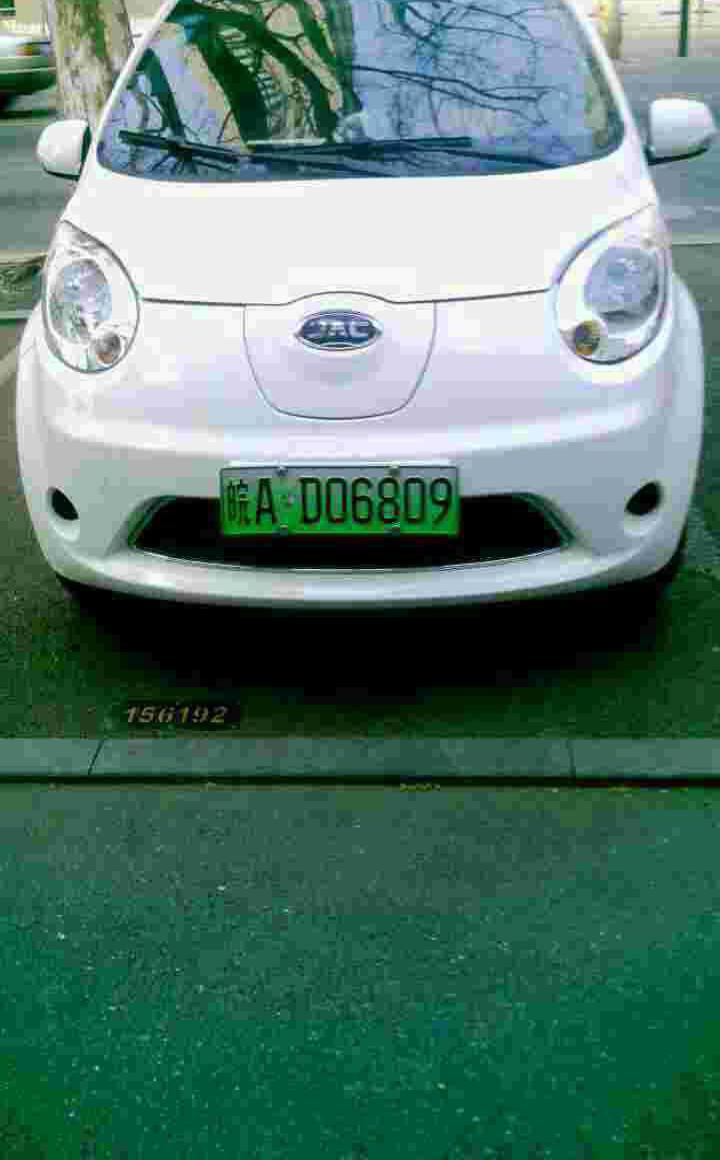car_green: (217, 465, 467, 548)
